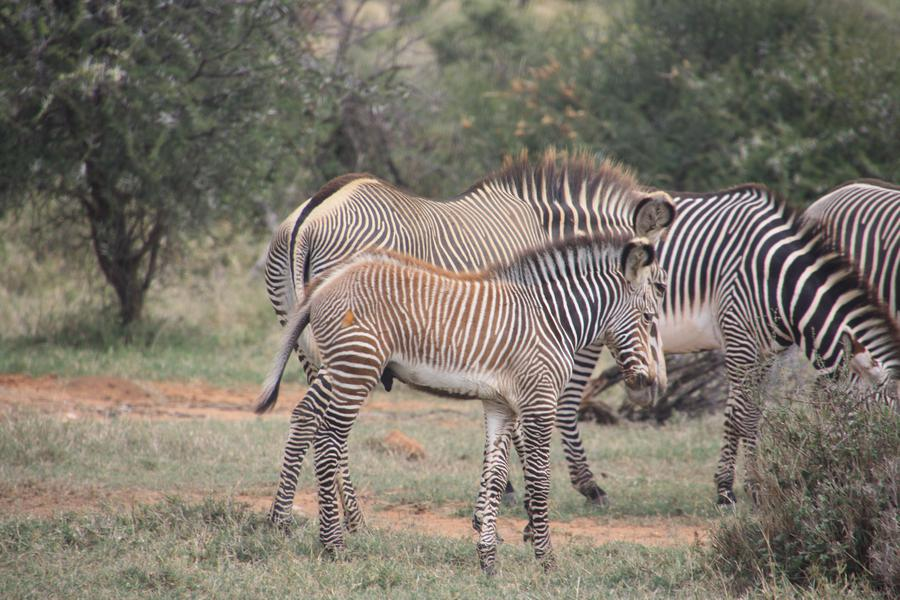zebra_grevys: (312, 234, 552, 411)
